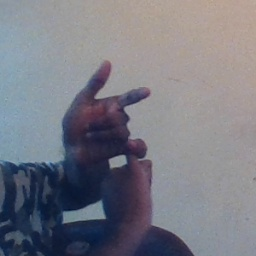S: (60, 56, 160, 216)
